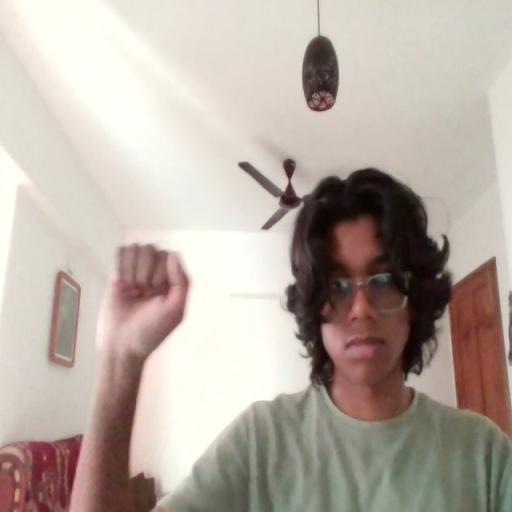Rock: (97, 239, 192, 350)
